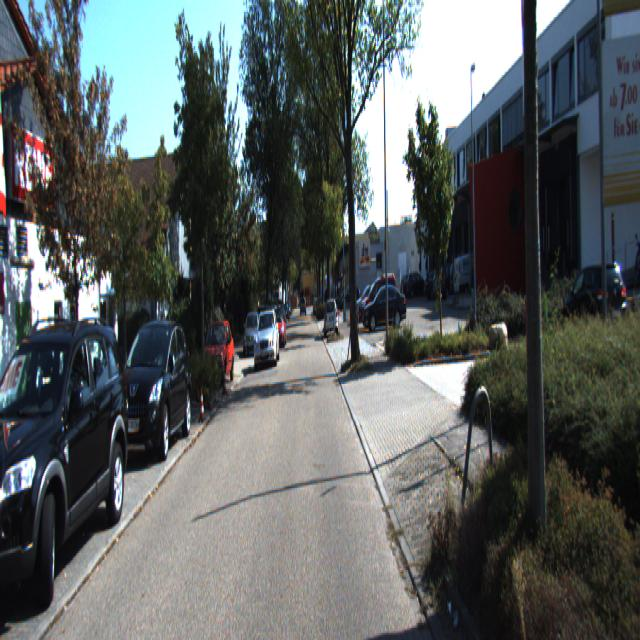Car: (0, 315, 135, 632), (111, 316, 194, 468), (198, 318, 235, 394), (360, 271, 400, 328), (453, 252, 496, 304), (362, 282, 408, 328), (253, 309, 281, 369), (324, 296, 339, 339)
